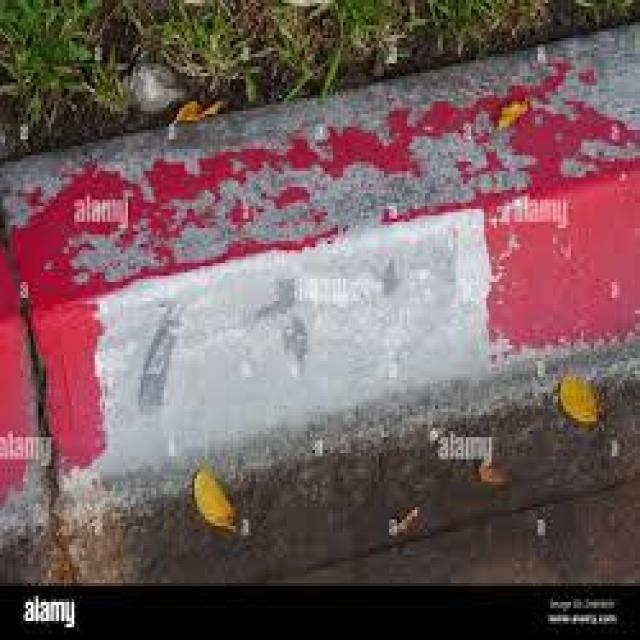curb: (1, 19, 617, 514)
